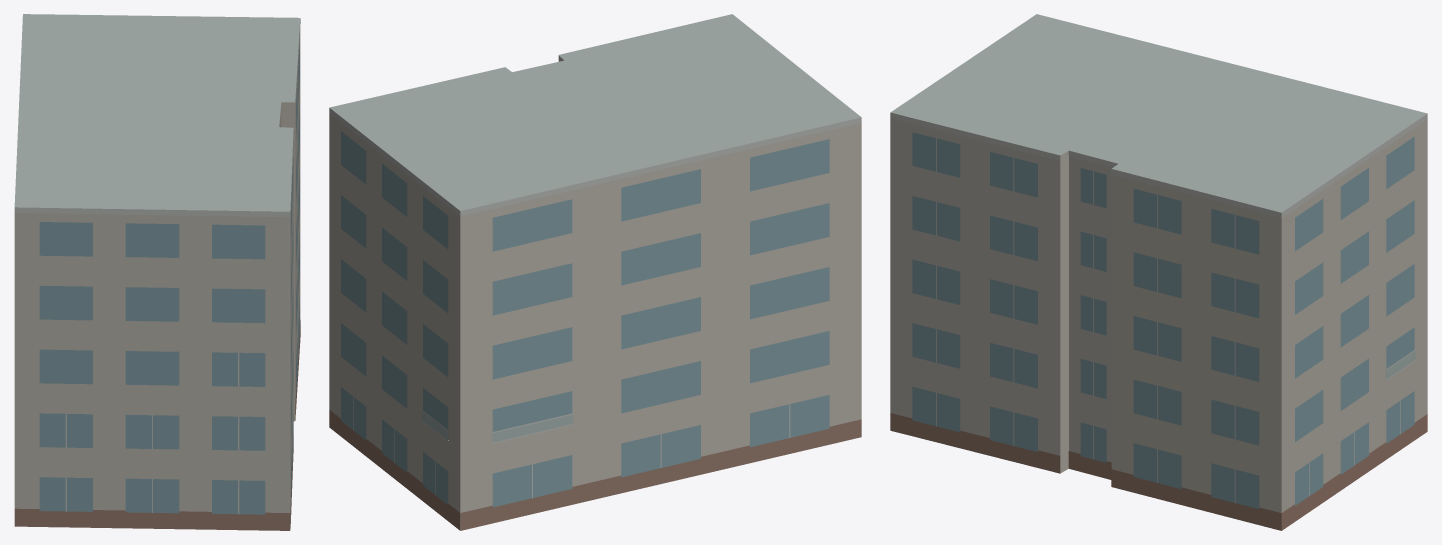
Rendered from survey-upis-33000945.glb.
The picture shows the model from 3 angles, left to right: view 1: azimuth 30°, elevation 25°; view 2: azimuth 150°, elevation 25°; view 3: azimuth 270°, elevation 25°; orthographic projection.
Visible parts, largest first — view 1: survey-upis-33000945.tmp; view 2: survey-upis-33000945.tmp; view 3: survey-upis-33000945.tmp.
Boxes of the visible parts, x1,y1,x2,y2 form: survey-upis-33000945.tmp: (14,14,300,530); survey-upis-33000945.tmp: (329,14,861,530); survey-upis-33000945.tmp: (890,14,1427,530).
Size of the model in its own units: 19.04 by 14.2 by 21.74.
